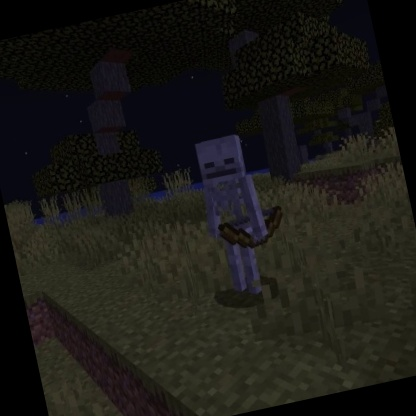skeleton: (185, 123, 301, 305)
